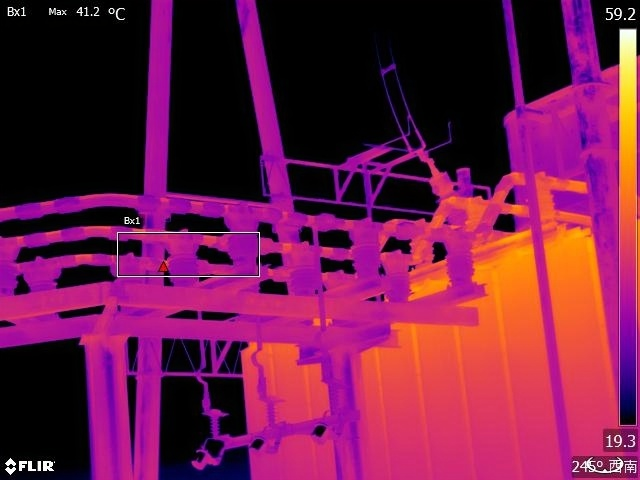oil conservator: (495, 42, 640, 231)
post insulator: (347, 218, 390, 286), (224, 212, 263, 281), (164, 233, 210, 288), (23, 266, 67, 323), (439, 229, 478, 289), (382, 247, 419, 306), (283, 248, 321, 298), (464, 204, 497, 245), (528, 185, 560, 227)
transformer: (242, 232, 640, 480)
tube: (423, 162, 459, 208), (262, 393, 285, 434), (324, 379, 348, 413), (204, 404, 227, 438)
